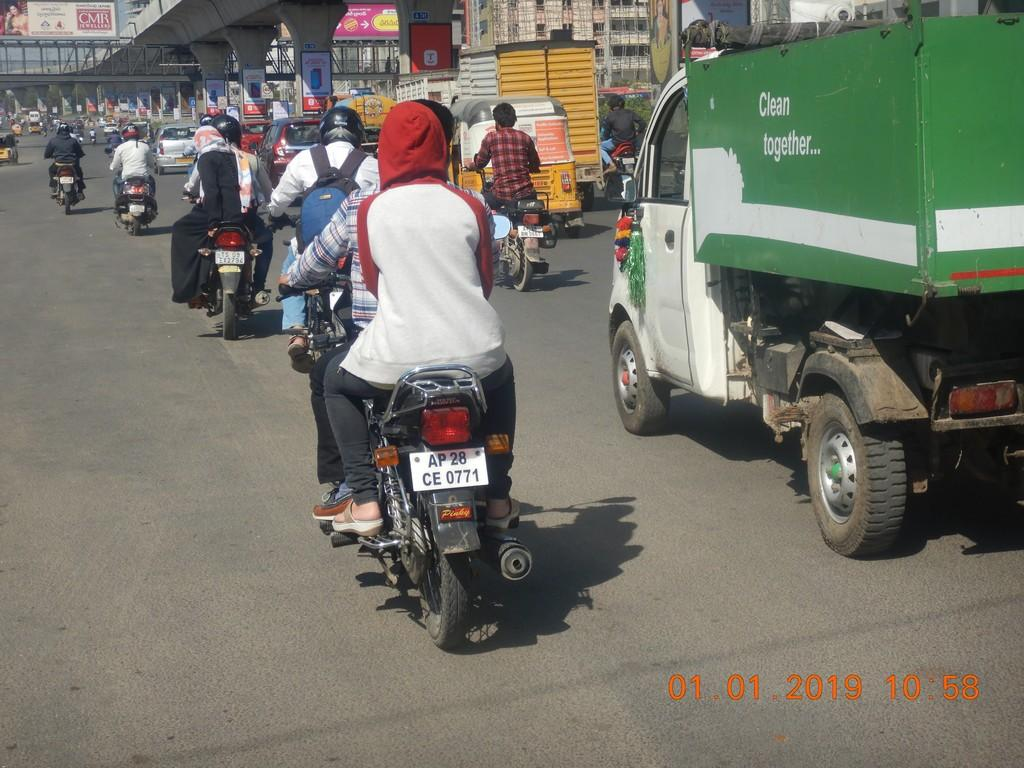plate: (418, 450, 488, 489), (217, 251, 244, 265), (519, 225, 544, 238)
